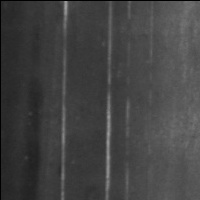scratches: (56, 2, 73, 200), (102, 3, 117, 200)
